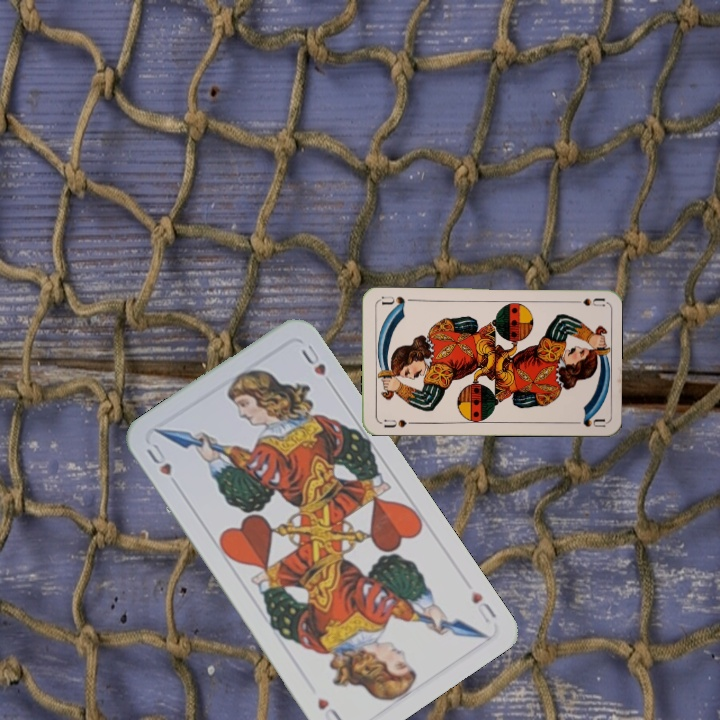HU: (467, 587, 500, 626), (142, 439, 174, 478)
SU: (565, 294, 606, 309), (379, 416, 417, 430)
